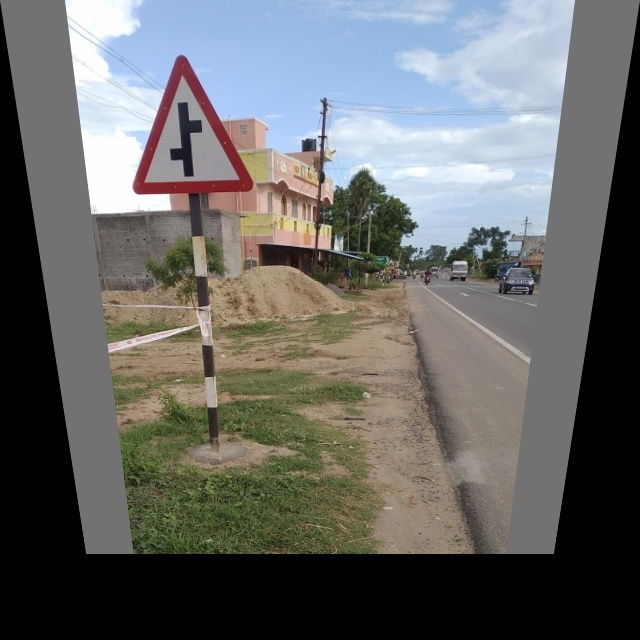Staggered_Intersection: (121, 42, 256, 202)
